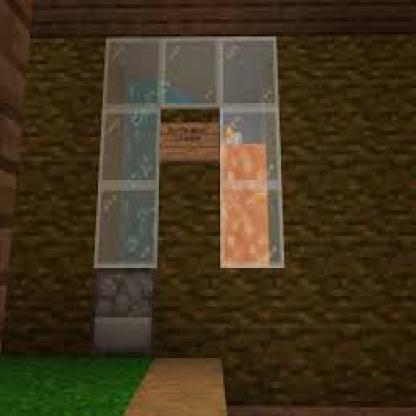Igneous_Diorite: (288, 32, 411, 399), (30, 41, 90, 343), (161, 165, 215, 339), (224, 275, 280, 403), (95, 277, 151, 313)
